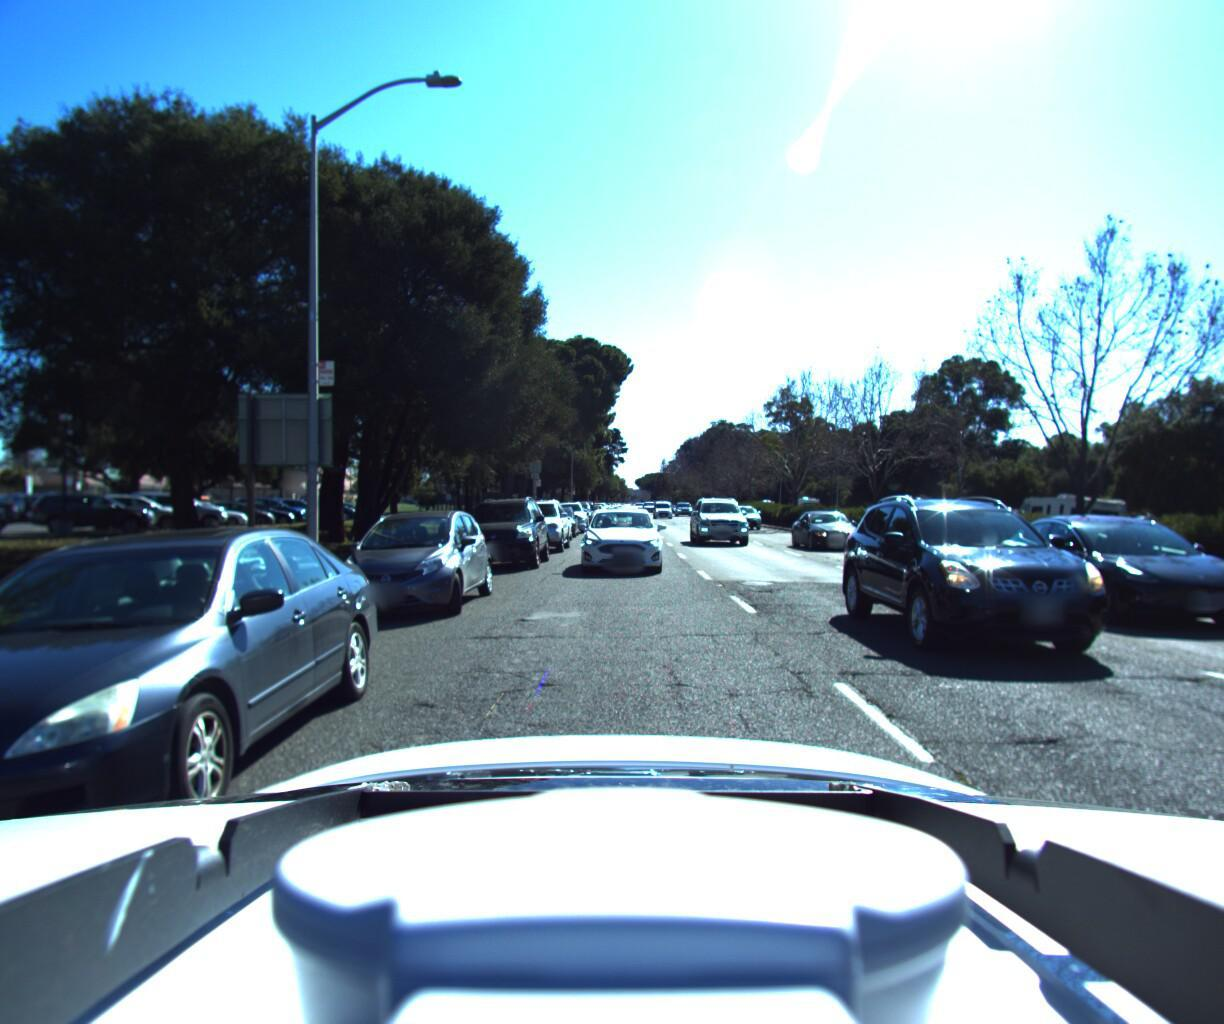car: (0, 513, 403, 939), (857, 478, 1224, 690), (1009, 518, 1224, 645), (321, 503, 483, 619), (446, 489, 550, 570), (574, 500, 664, 573), (495, 491, 565, 553), (689, 493, 761, 549), (789, 509, 876, 553), (546, 497, 582, 532), (727, 504, 769, 531), (608, 505, 644, 536), (650, 500, 672, 519)
other_vehicle: (1009, 489, 1126, 550), (877, 490, 936, 530)
